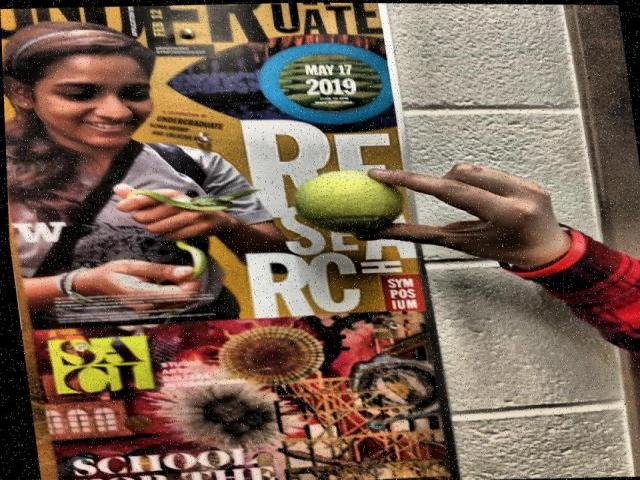tennis-ball: (294, 170, 404, 232)
